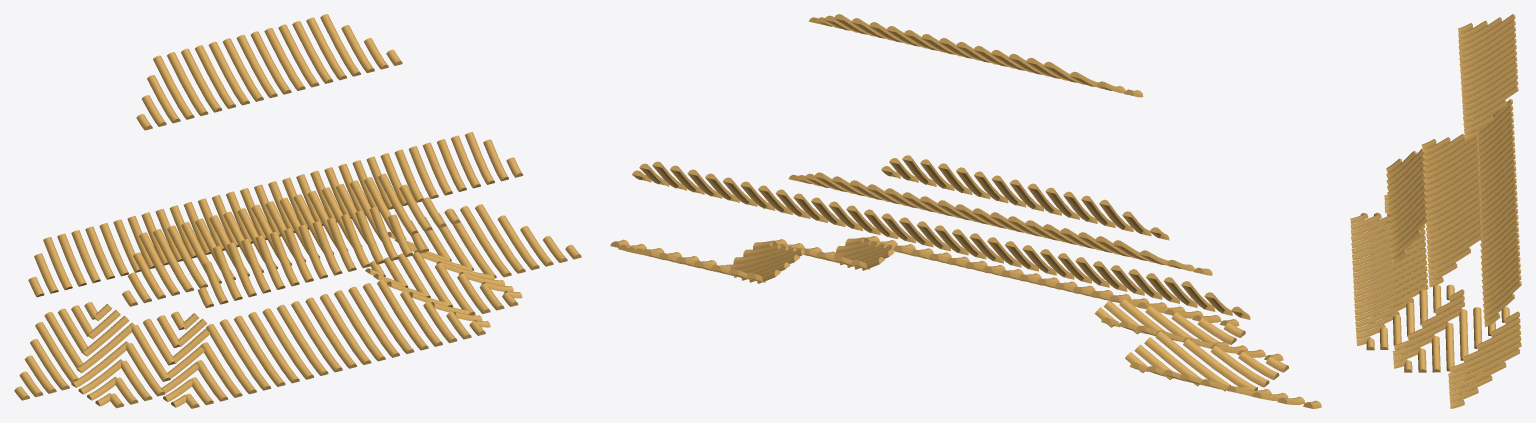
The model's file is roof-tiles-0-0.glb.
3 views of the same model, side by side, from view 1: azimuth 30°, elevation 25°; view 2: azimuth 150°, elevation 25°; view 3: azimuth 270°, elevation 25° (orthographic). The views are drawn at different scales.
Visible parts, largest first — view 1: roof-tiles-0-0_micro_Roof_Glazed_Ochre; view 2: roof-tiles-0-0_micro_Roof_Glazed_Ochre; view 3: roof-tiles-0-0_micro_Roof_Glazed_Ochre.
Part boxes in pixels (<box>): roof-tiles-0-0_micro_Roof_Glazed_Ochre: <box>14,14,581,408</box>; roof-tiles-0-0_micro_Roof_Glazed_Ochre: <box>610,14,1321,408</box>; roof-tiles-0-0_micro_Roof_Glazed_Ochre: <box>1350,14,1521,408</box>.
Bounding box in the file's own units: 0.1554 × 0.0707 × 0.0473.
